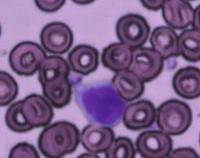L: (74, 78, 130, 128)
